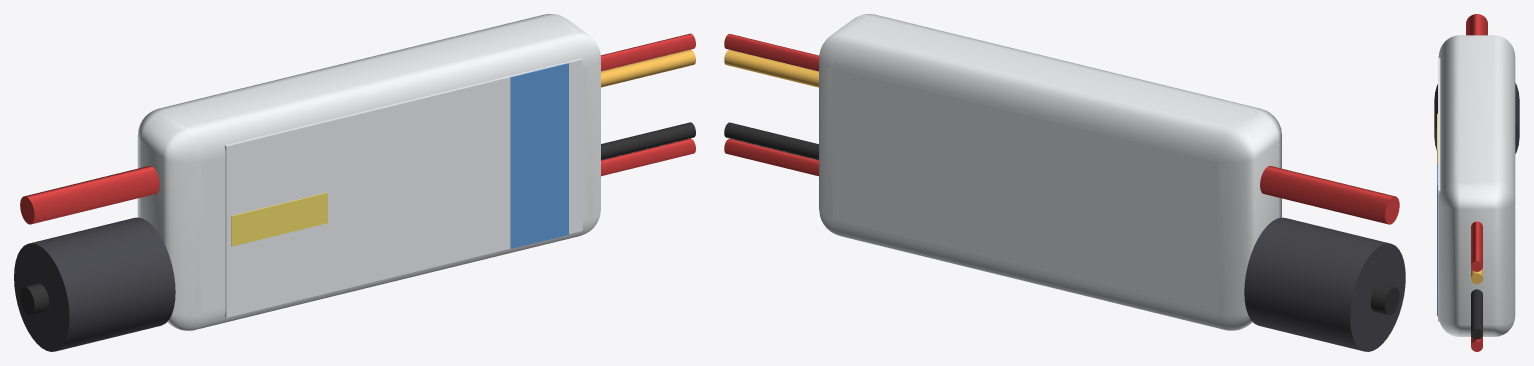
The model's file is servo_reg.glb.
3 renders of one model, left to right at view 1: azimuth 30°, elevation 25°; view 2: azimuth 150°, elevation 25°; view 3: azimuth 270°, elevation 25°, orthographic. The views are drawn at different scales.
Parts seen in each view (by area): view 1: c_e5eaf4, c_e0e5ea, c_0f0f11, c_1e59bf, wire_red, c_f2c626, wire_black, c_f28c19; view 2: c_e0e5ea, c_0f0f11, wire_red, wire_black, c_f28c19; view 3: c_e0e5ea, wire_red, wire_black, c_e5eaf4, c_0f0f11, c_f28c19, c_1e59bf.
Boxes of the visible parts, <box> form: c_e5eaf4: <box>224,58,582,317</box>; c_e0e5ea: <box>137,14,600,330</box>; c_0f0f11: <box>14,217,175,351</box>; c_1e59bf: <box>510,63,568,248</box>; wire_red: <box>20,33,695,224</box>; c_f2c626: <box>231,192,327,246</box>; wire_black: <box>20,122,695,315</box>; c_f28c19: <box>601,49,695,87</box>; c_e0e5ea: <box>819,14,1281,330</box>; c_0f0f11: <box>1244,217,1405,351</box>; wire_red: <box>724,33,1399,224</box>; wire_black: <box>724,122,1399,315</box>; c_f28c19: <box>724,50,818,87</box>; c_e0e5ea: <box>1438,35,1515,336</box>; wire_red: <box>1466,14,1487,351</box>; wire_black: <box>1471,289,1482,339</box>; c_e5eaf4: <box>1438,58,1440,321</box>; c_0f0f11: <box>1434,83,1519,153</box>; c_f28c19: <box>1471,268,1482,284</box>; c_1e59bf: <box>1437,164,1438,316</box>.
Size of the model in its own units: 0.069 by 0.02 by 0.01.
